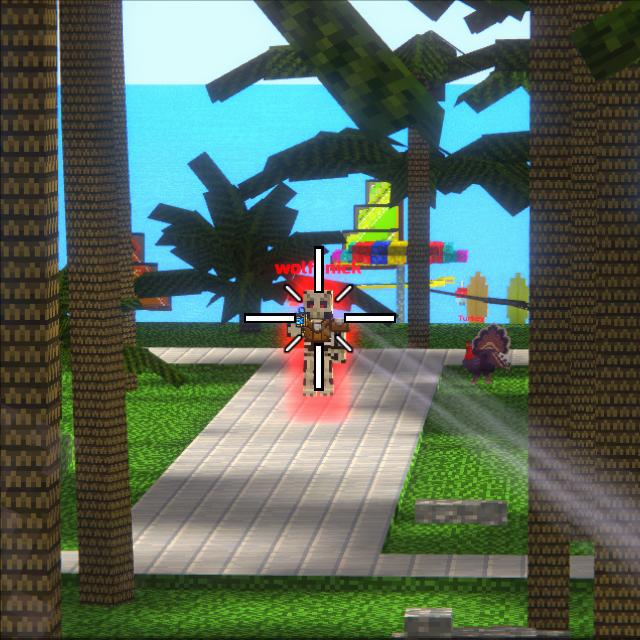Enemy: (288, 290, 352, 399)
